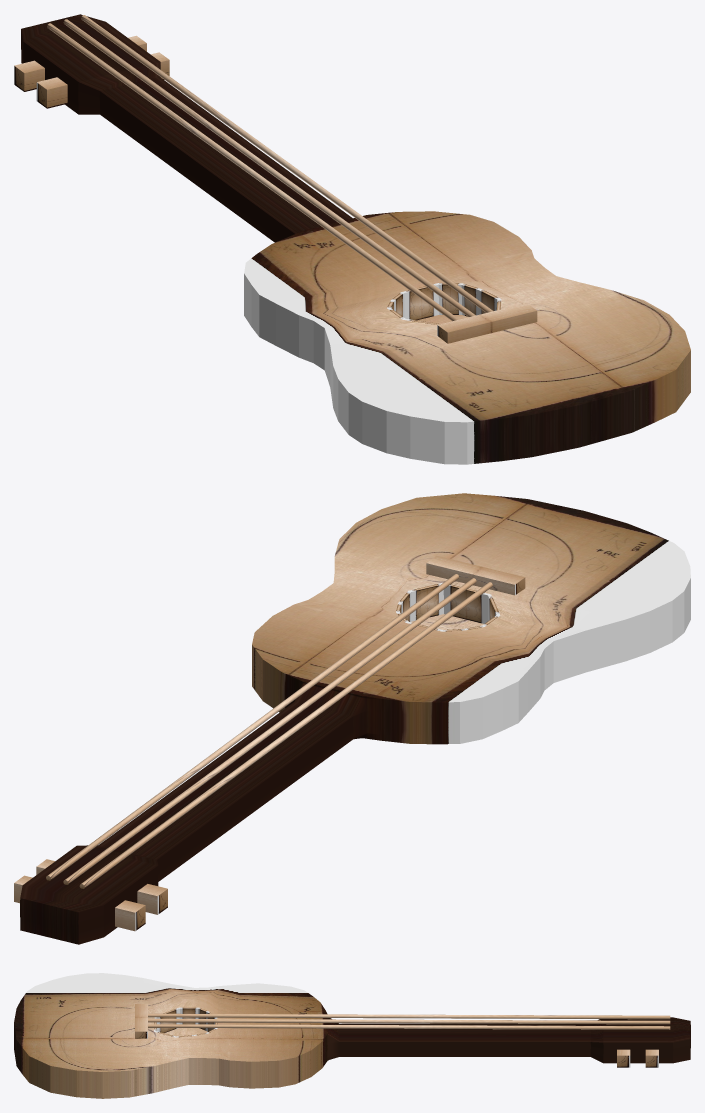
File: guitar.fbx
3 views of the same model, one above another, from view 1: azimuth 30°, elevation 25°; view 2: azimuth 150°, elevation 25°; view 3: azimuth 270°, elevation 25° (orthographic). The views are drawn at different scales.
Parts seen in each view (by area): view 1: polySurface3, pCylinder1, pCylinder3, pCylinder2, pCube1, pCube3, pCube2; view 2: polySurface3, pCylinder3, pCylinder2, pCylinder1, pCube1, pCube2, pCube3; view 3: polySurface3, pCylinder1, pCylinder2, pCylinder3, pCube1, pCube2, pCube3.
Boxes of the visible parts, box(x1,y1,x2,y2) form: polySurface3: box(21, 14, 690, 464); pCylinder1: box(81, 15, 493, 312); pCylinder3: box(47, 23, 459, 321); pCylinder2: box(63, 19, 475, 316); pCube1: box(437, 303, 537, 343); pCube3: box(36, 52, 169, 108); pCube2: box(14, 35, 146, 91); polySurface3: box(20, 493, 690, 944); pCylinder3: box(79, 582, 492, 889); pCylinder2: box(63, 578, 476, 885); pCylinder1: box(46, 574, 458, 880); pCube1: box(426, 555, 525, 595); pCube2: box(14, 875, 145, 931); pCube3: box(36, 859, 167, 914); polySurface3: box(14, 973, 690, 1098); pCylinder1: box(148, 1024, 670, 1029); pCylinder2: box(148, 1018, 670, 1024); pCylinder3: box(148, 1013, 670, 1019); pCube1: box(135, 1004, 147, 1038); pCube2: box(645, 1049, 658, 1067); pCube3: box(617, 1049, 630, 1067).
Bounding box in the file's own units: 1.9 × 0.3078 × 5.5.
Materials: 1 (1 with a texture image).
